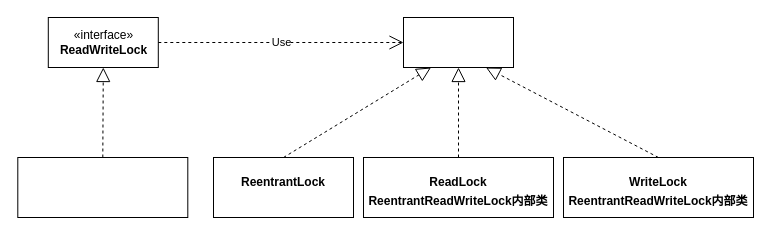
This 771x235 diagram has some shape labels left out. The shapes that lost their labels are listed below. From the top down, each one's centre as x and y in pixels, then its label:
point 458,42: «interface» Lock
point 102,187: ReentrantReadWriteLock
